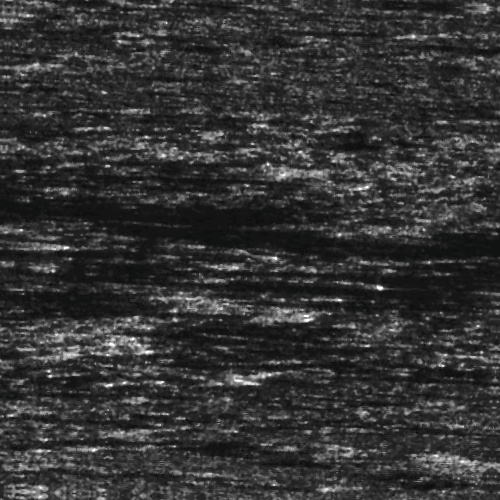object: (279, 172, 404, 185), (0, 244, 95, 257), (213, 159, 296, 166), (213, 375, 286, 382), (452, 279, 500, 288), (359, 24, 442, 29), (98, 33, 129, 38), (0, 3, 20, 10), (1, 0, 64, 1)
shadow: (124, 172, 341, 185), (243, 279, 498, 288), (78, 375, 249, 382), (428, 28, 500, 43), (294, 24, 401, 29), (0, 244, 38, 257), (199, 159, 254, 166), (55, 33, 113, 38), (455, 297, 500, 302)
